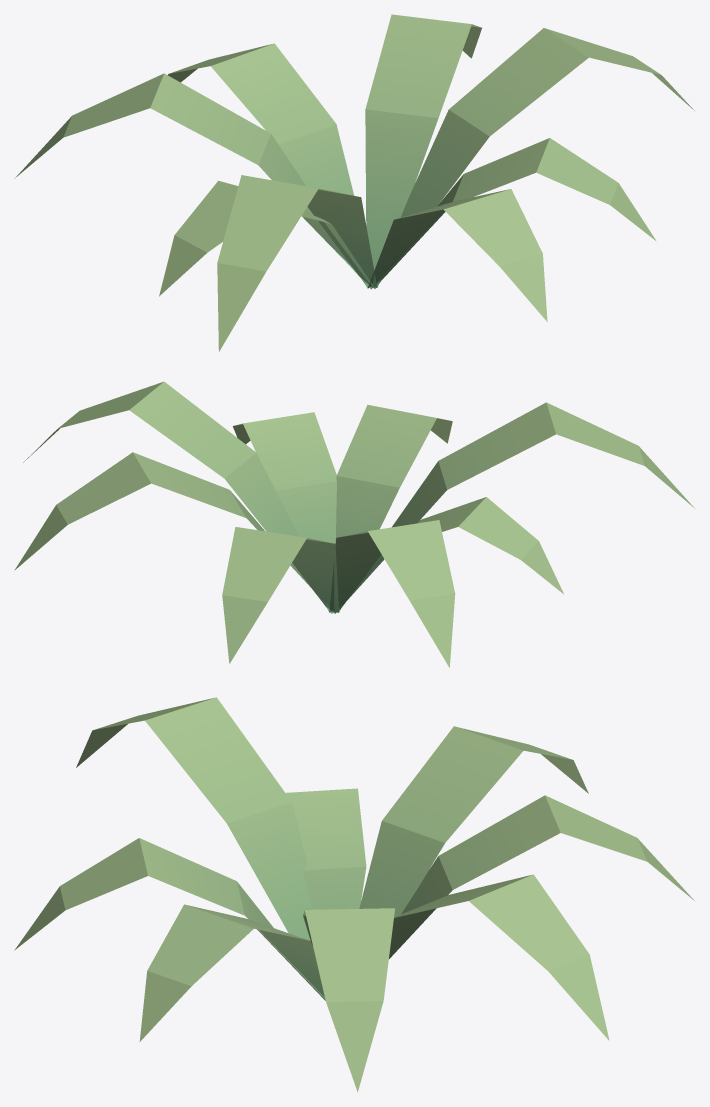
File: fern_clump.glb
3 renders of one model, top to bottom at view 1: azimuth 30°, elevation 25°; view 2: azimuth 150°, elevation 25°; view 3: azimuth 270°, elevation 25°, orthographic. The views are drawn at different scales.
Parts seen in each view (by area): view 1: Fern; view 2: Fern; view 3: Fern.
Part boxes in pixels (left/top/right/bottom): Fern: left=14, top=14, right=694, bottom=351; Fern: left=14, top=381, right=694, bottom=667; Fern: left=14, top=697, right=694, bottom=1092.
Size of the model in its own units: 1.84 by 0.5766 by 1.66.
